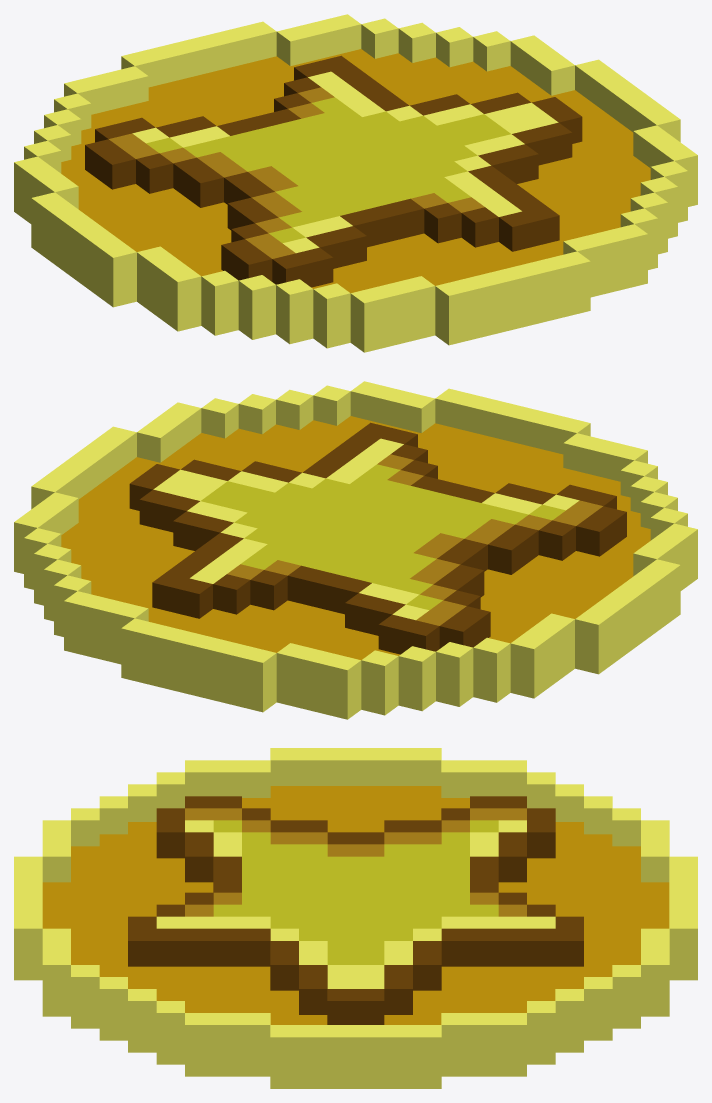
The model's file is badge.obj.
3 views of the same model, one above another, from view 1: azimuth 30°, elevation 25°; view 2: azimuth 150°, elevation 25°; view 3: azimuth 270°, elevation 25° (orthographic). The views are drawn at different scales.
Bounding box in the file's own units: 2.4 × 0.2 × 2.4.
Materials: 1 (1 with a texture image).
